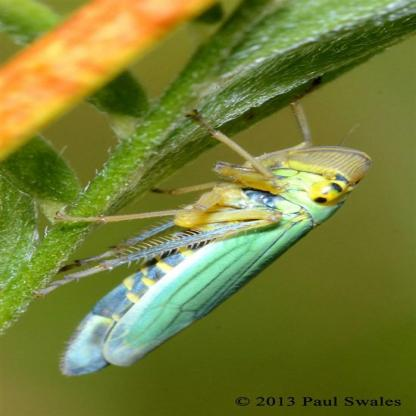Green-Leafhopper: (34, 93, 375, 388)
